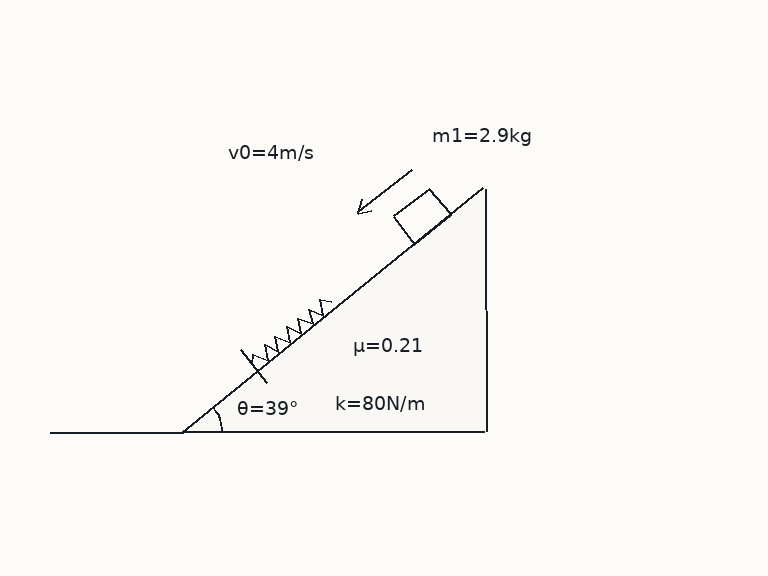block: (391, 186, 453, 246)
ramp: (180, 185, 486, 434)
spring: (250, 297, 333, 366)
